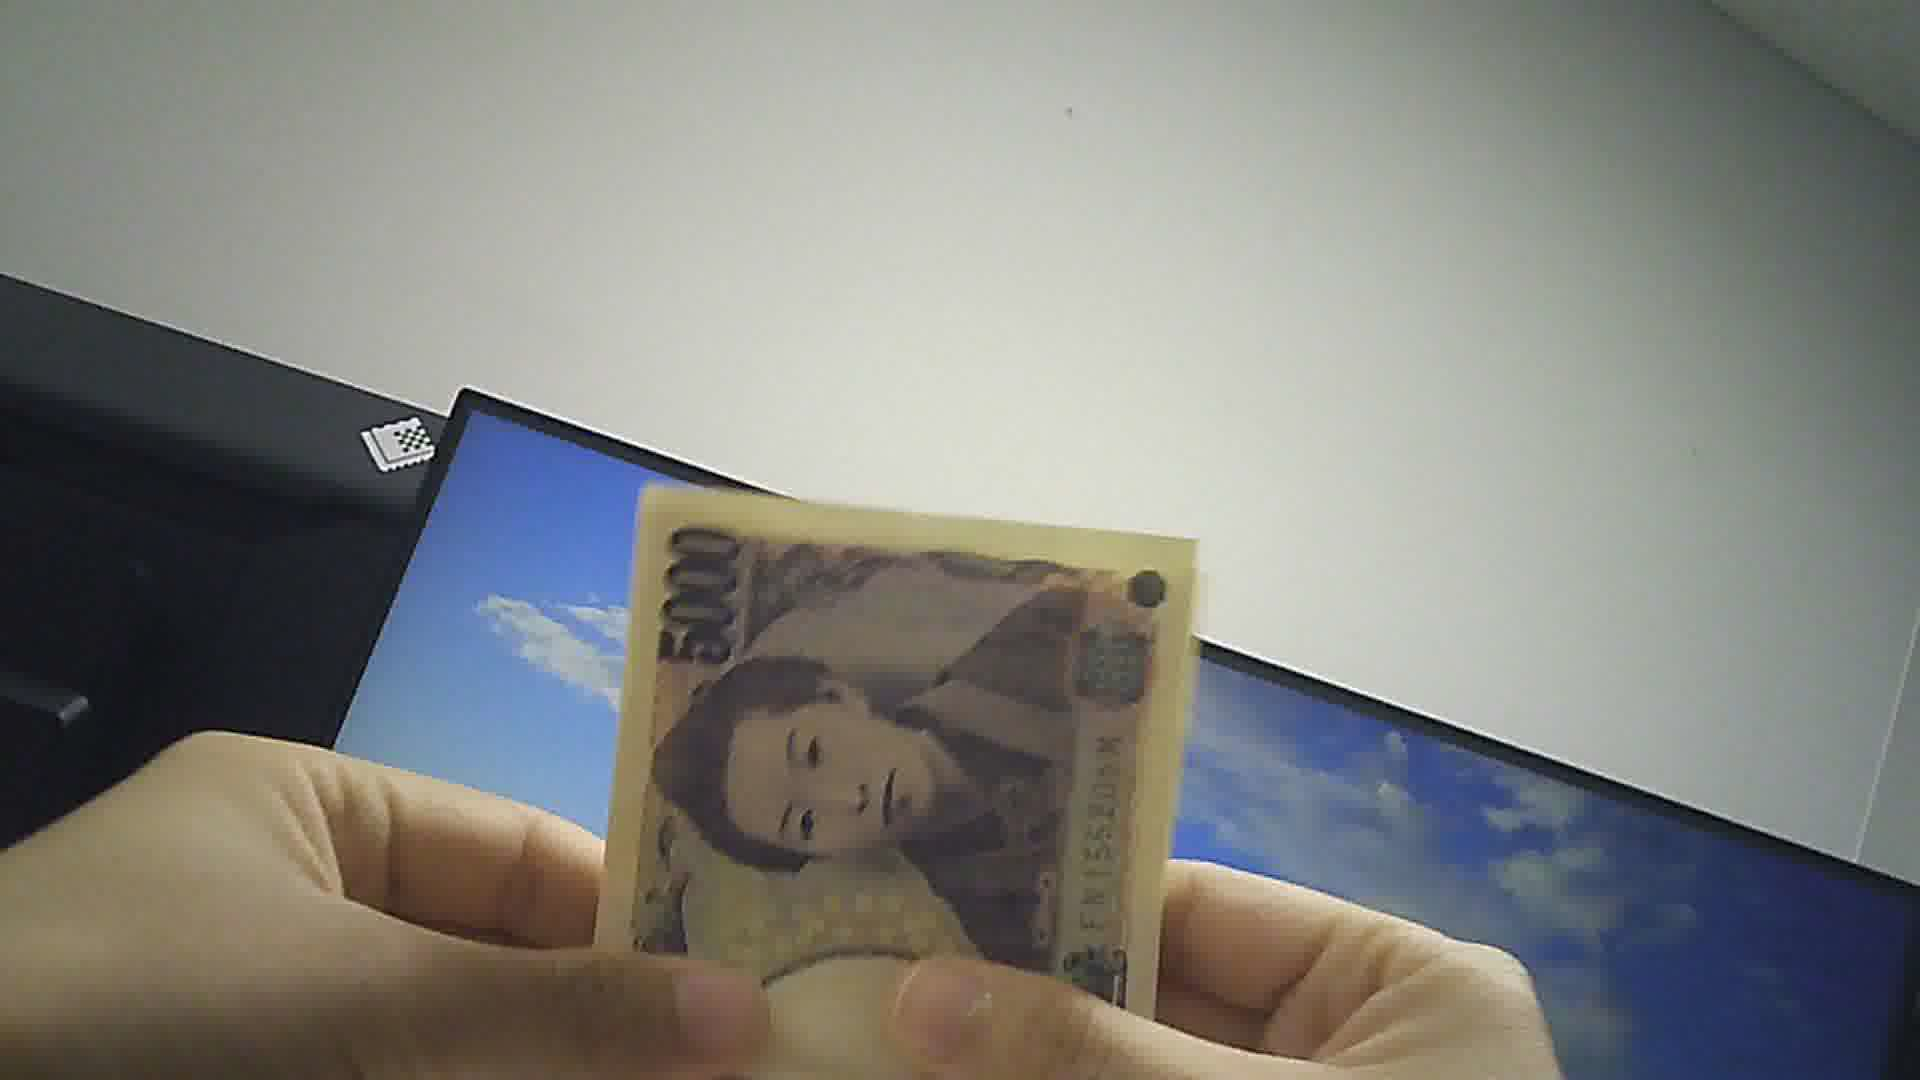5,000 Yen: (593, 472, 1182, 1079)
